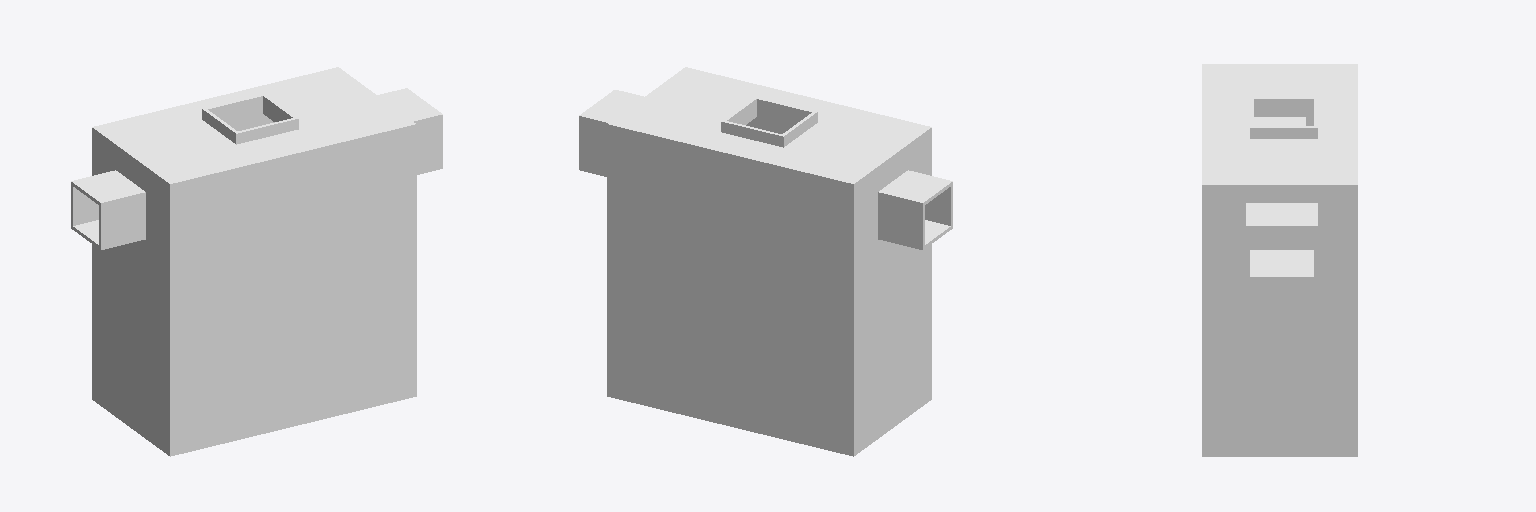
File: Rustning.obj
The picture shows the model from 3 angles: view 1: azimuth 30°, elevation 25°; view 2: azimuth 150°, elevation 25°; view 3: azimuth 270°, elevation 25°; orthographic projection.
Bounding box in the file's own units: 98 × 78 × 39.